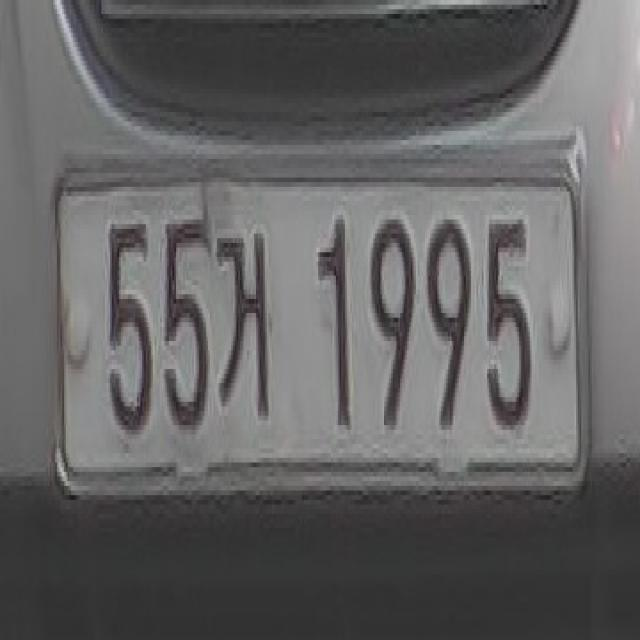1: (310, 199, 358, 439)
5: (482, 203, 536, 425), (162, 203, 212, 437), (104, 215, 156, 438)
9: (362, 201, 419, 423), (424, 202, 474, 429)
geo: (215, 212, 278, 426)
license_plate: (51, 136, 594, 499)
